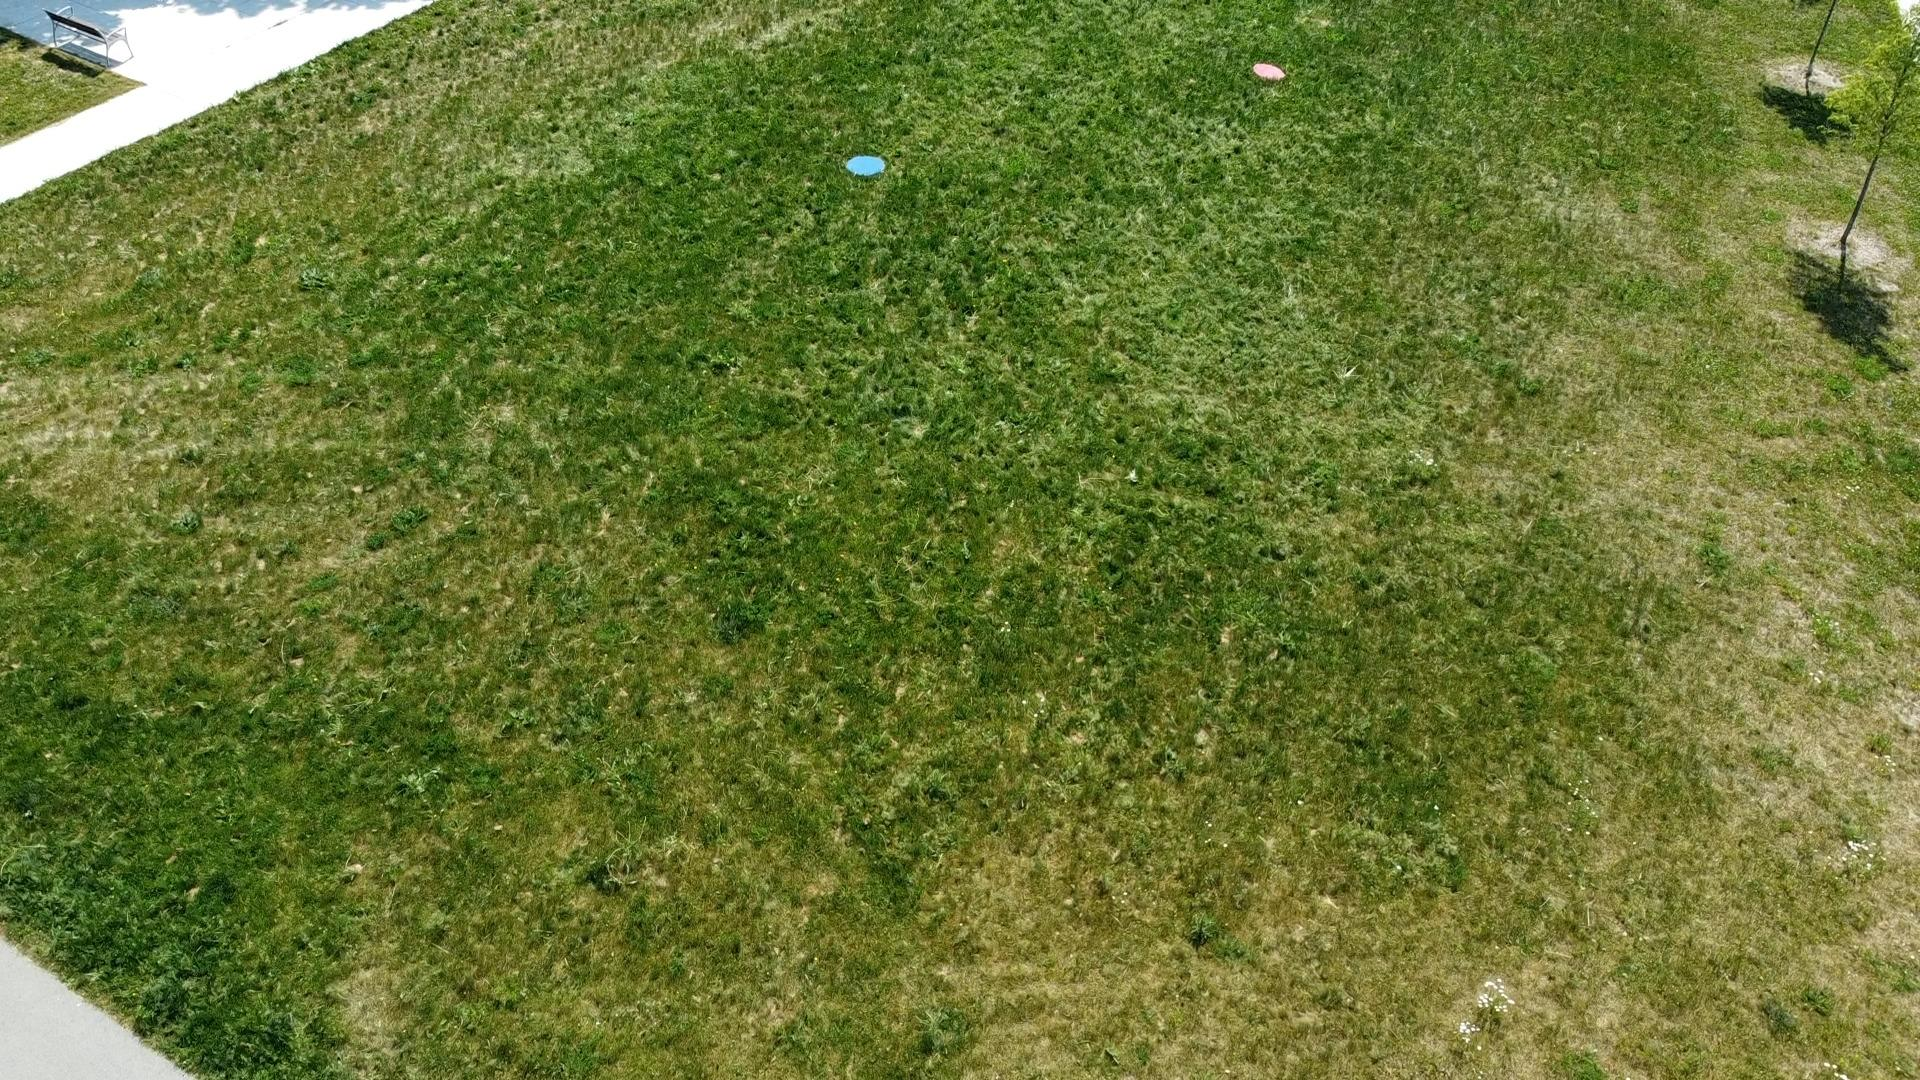Blue: (843, 152, 887, 179)
Red: (1249, 61, 1287, 83)
